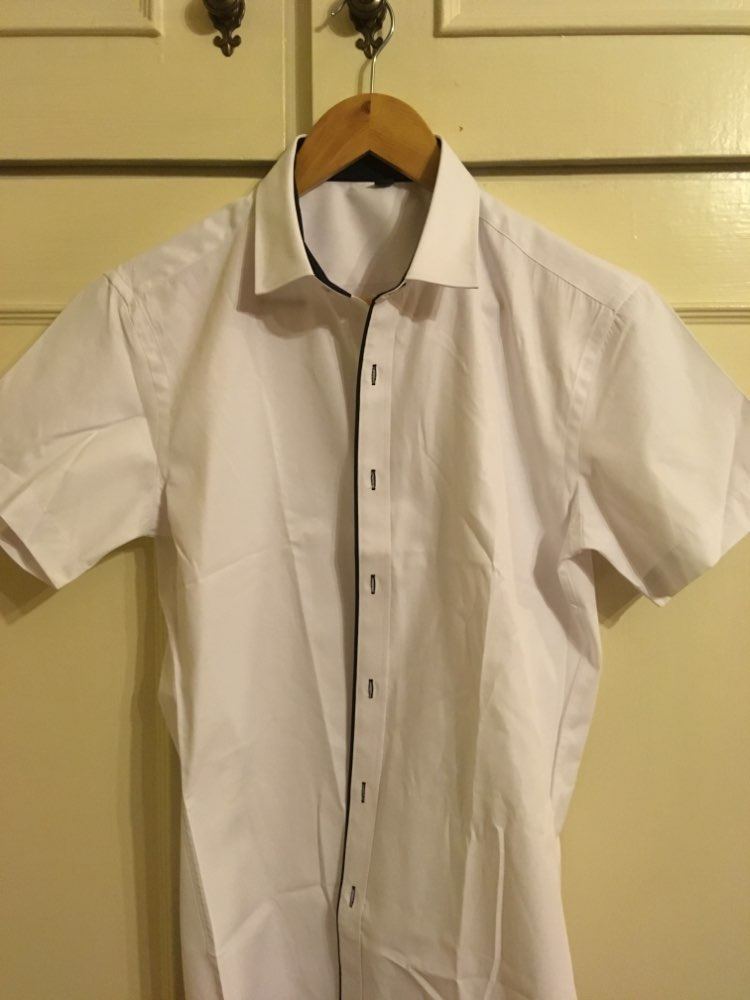shirts: (8, 132, 720, 1000)
